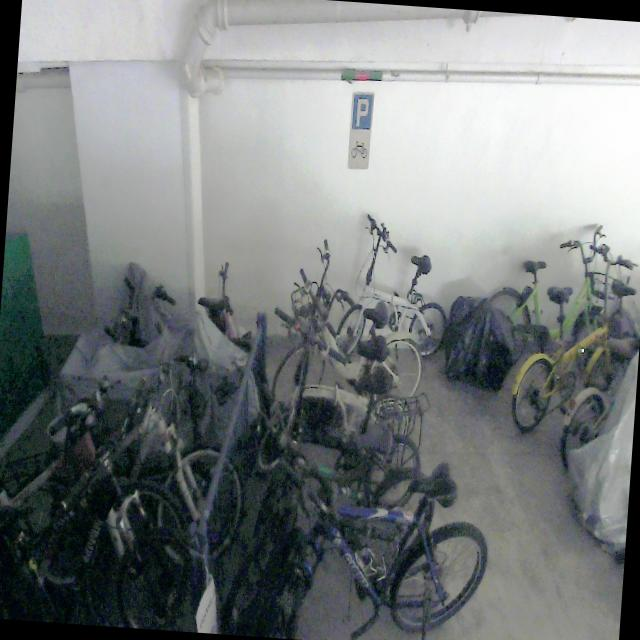bike: (0, 336, 250, 608), (220, 423, 496, 640), (0, 361, 200, 631), (234, 384, 442, 606), (246, 360, 426, 512), (508, 236, 640, 438), (262, 299, 424, 460), (292, 235, 431, 418), (480, 216, 614, 380), (332, 212, 453, 370)
